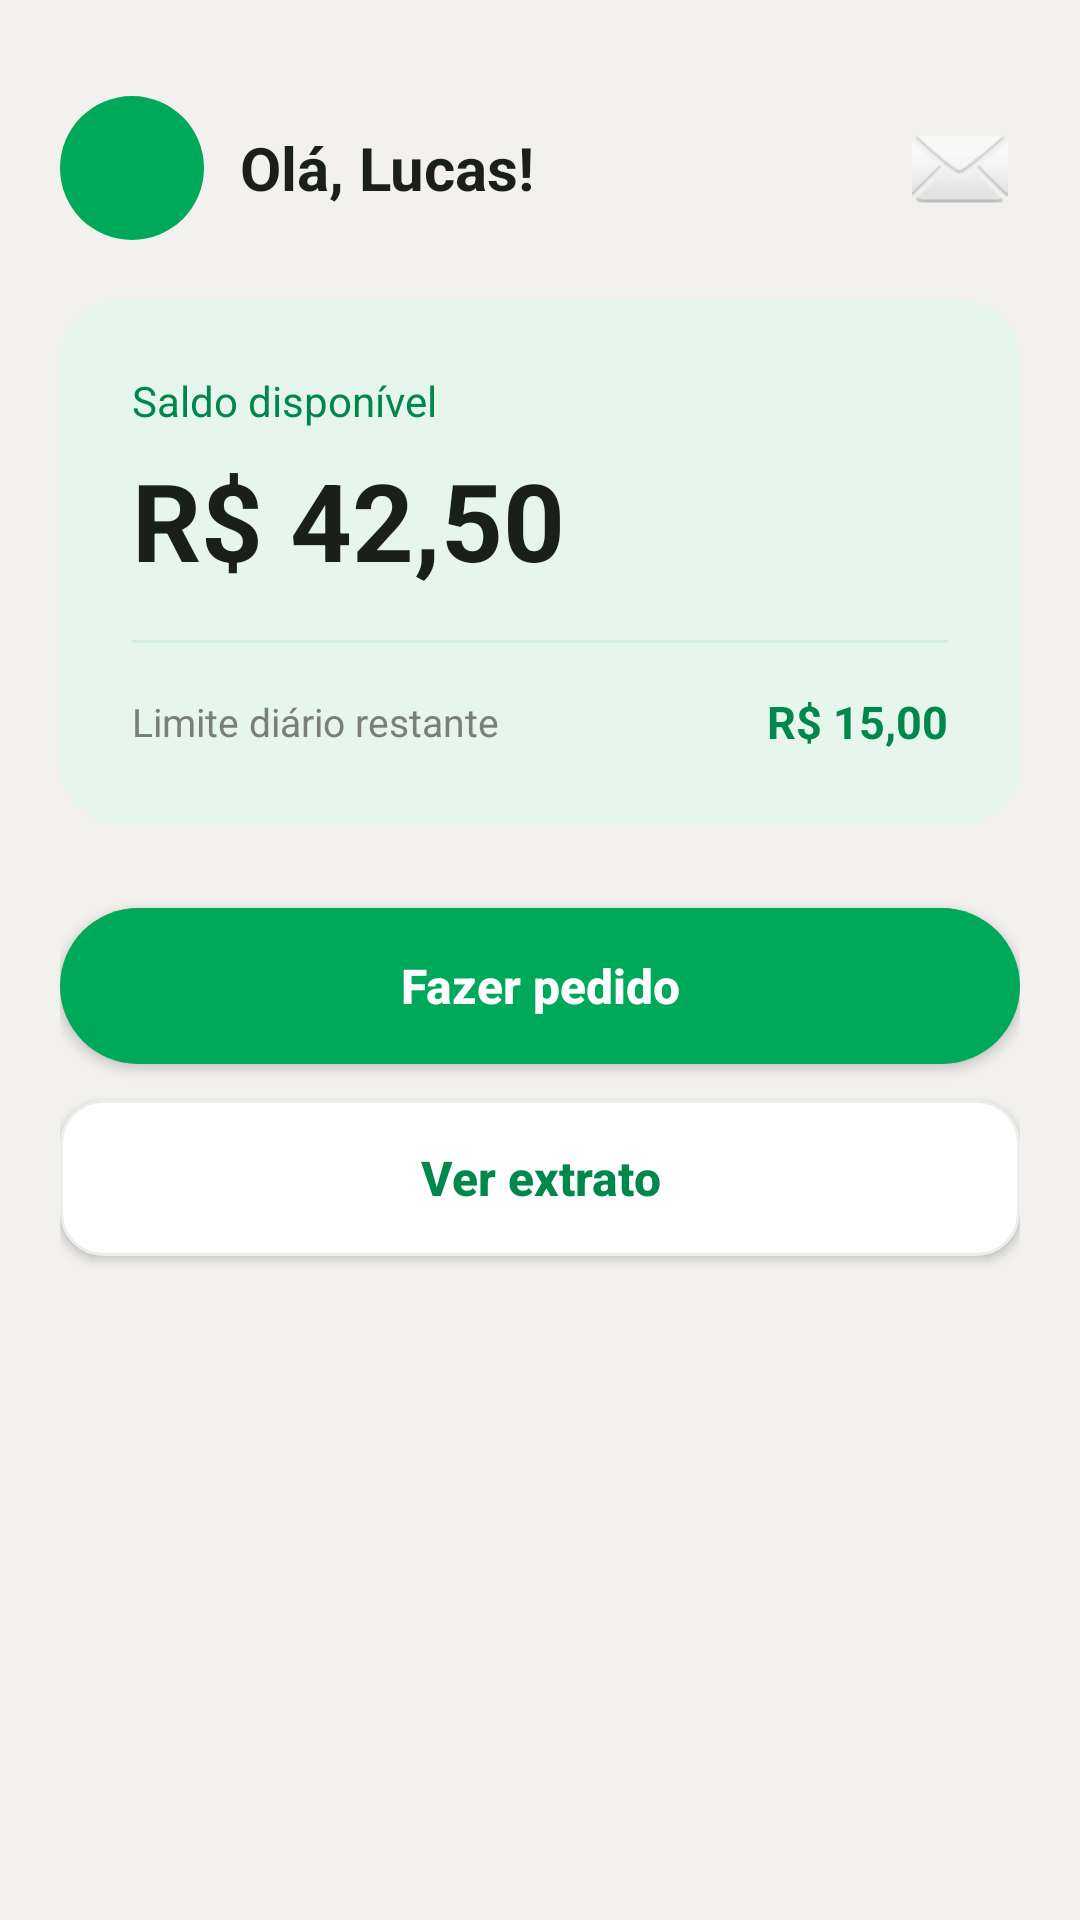

Screen size 1080px×1920px. Icon name, then its box in pixels as (x1, y1, x2, y2):
Notificações: (912, 138, 1008, 203)
